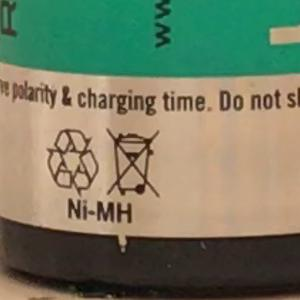NI-MH: (58, 192, 142, 229)
